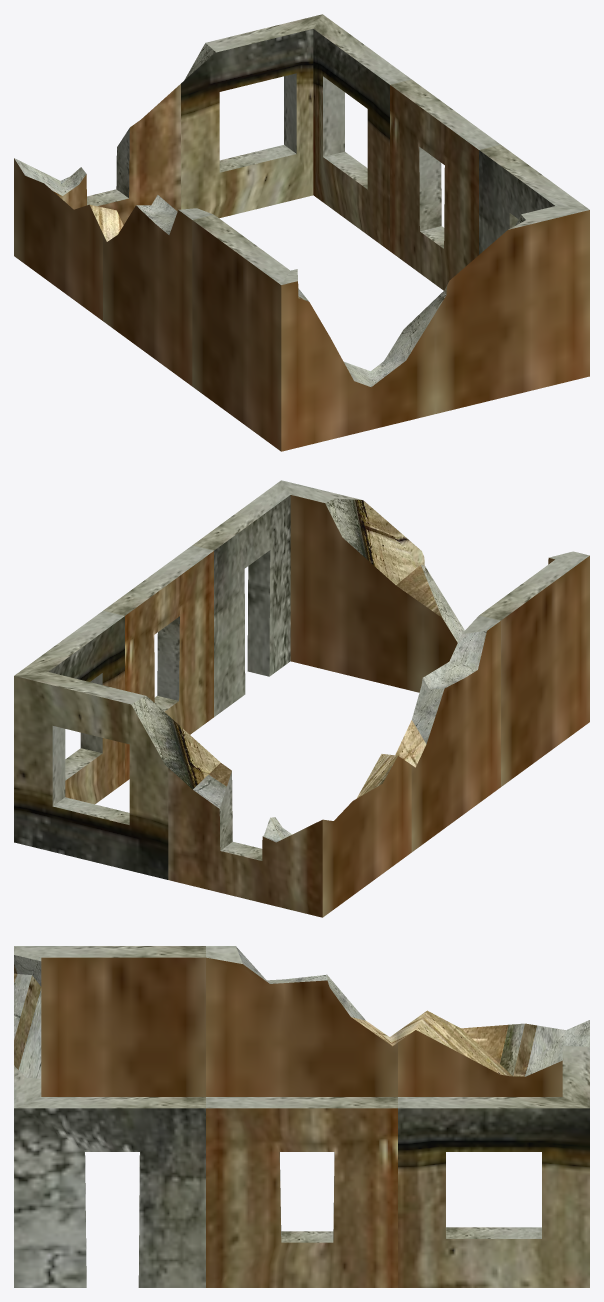
File: wall-fragment.glb
3 views of the same model, one above another, from view 1: azimuth 30°, elevation 25°; view 2: azimuth 150°, elevation 25°; view 3: azimuth 270°, elevation 25° (orthographic). The views are drawn at different scales.
Visible parts, largest first — view 1: wall-fragment; view 2: wall-fragment; view 3: wall-fragment.
Part boxes in pixels (x1,y1,x2,y2): wall-fragment: [14, 14, 589, 451]; wall-fragment: [14, 480, 589, 917]; wall-fragment: [14, 946, 589, 1287].
Size of the model in its own units: 8 by 4.12 by 12.
1 material, 1 textured.
